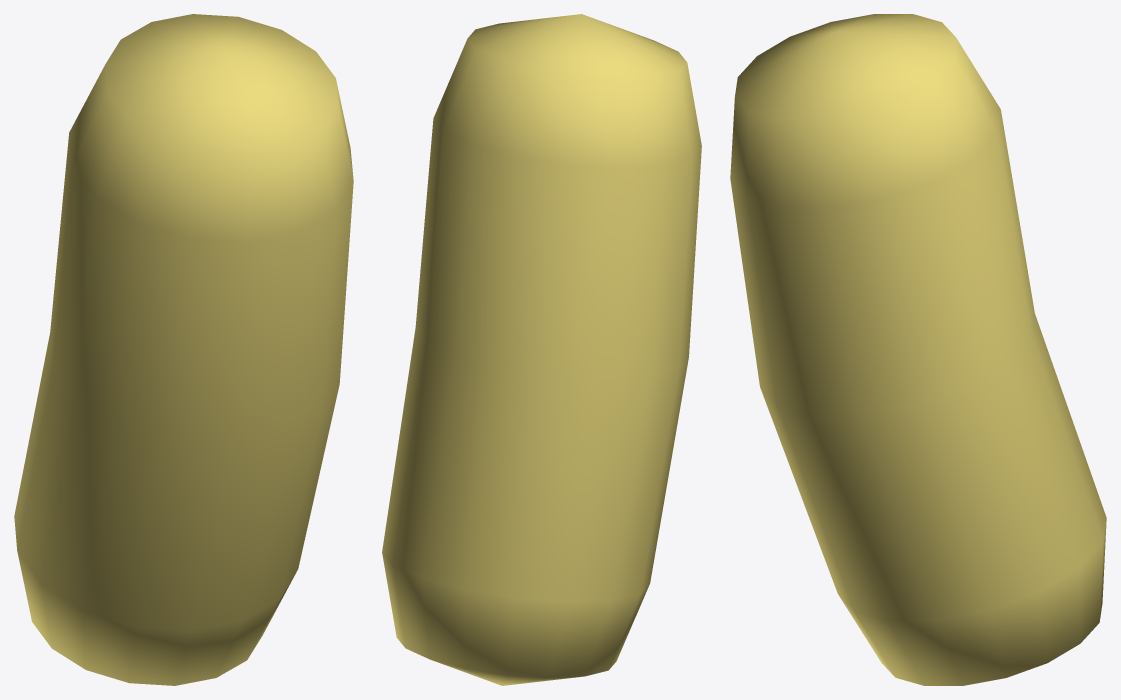
File: red-nucleus-l.glb
3 renders of one model, left to right at view 1: azimuth 30°, elevation 25°; view 2: azimuth 150°, elevation 25°; view 3: azimuth 270°, elevation 25°, orthographic. The views are drawn at different scales.
Parts seen in each view (by area): view 1: Red nucleus.l; view 2: Red nucleus.l; view 3: Red nucleus.l.
Part boxes in pixels (bbox=[...]): Red nucleus.l: bbox=[14, 14, 353, 685]; Red nucleus.l: bbox=[382, 14, 701, 685]; Red nucleus.l: bbox=[730, 14, 1106, 685].
Size of the model in its own units: 0.00531 by 0.0132 by 0.00708.
